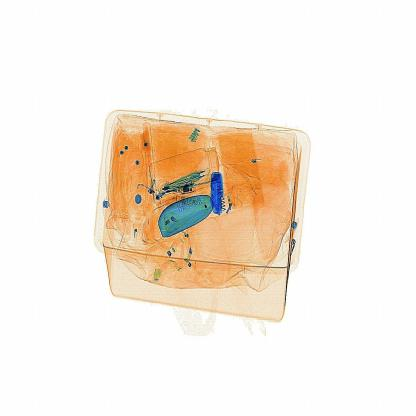scissors: (205, 161, 234, 220)
